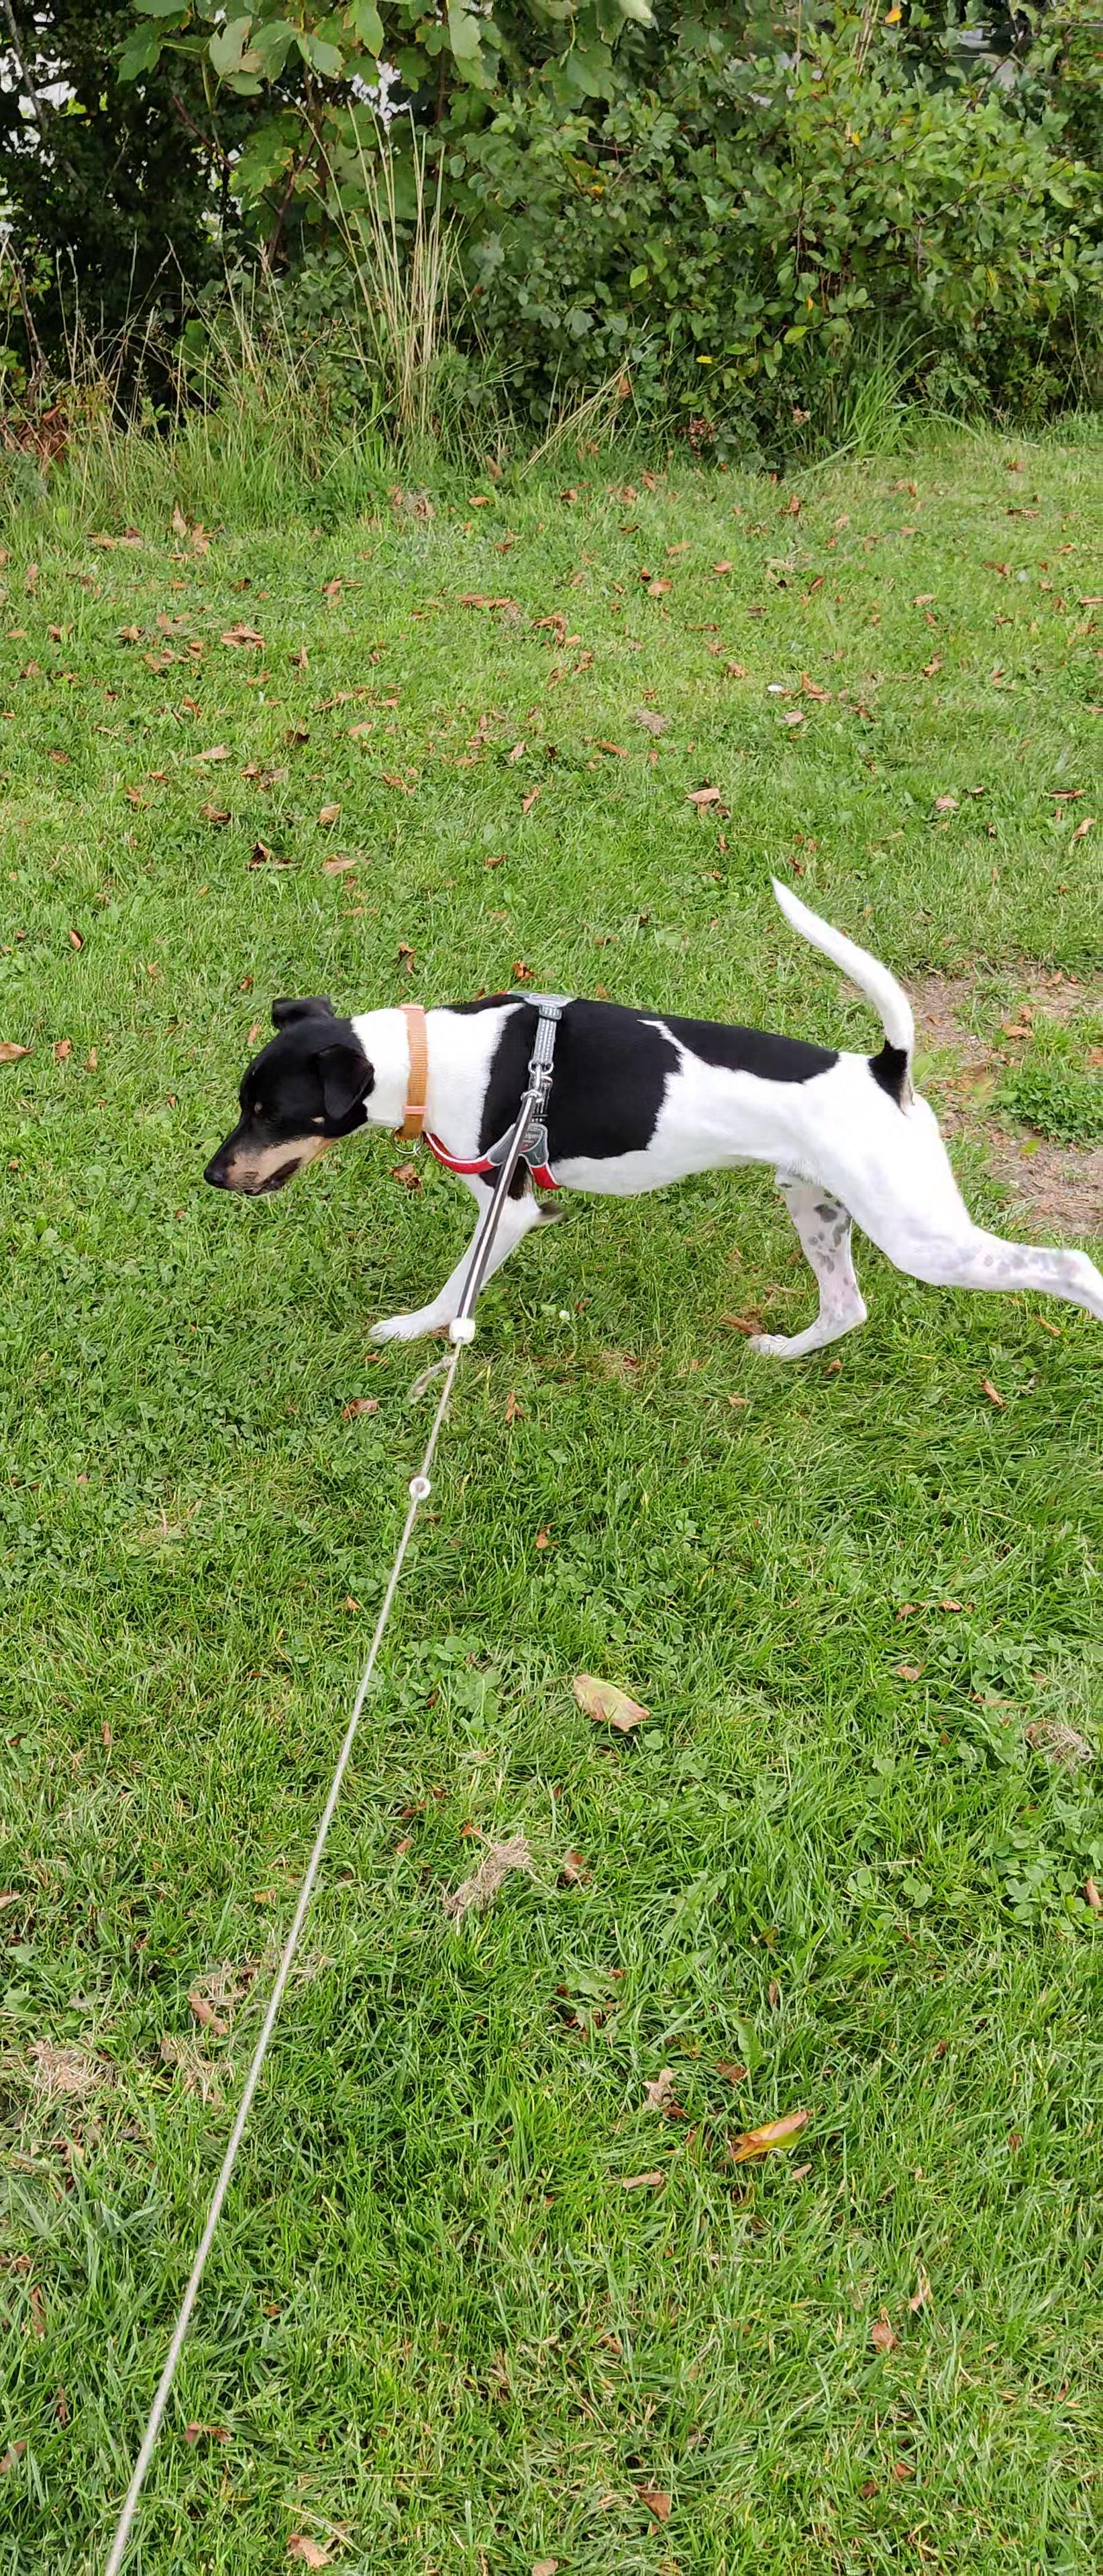Dog: (184, 849, 1103, 1378)
